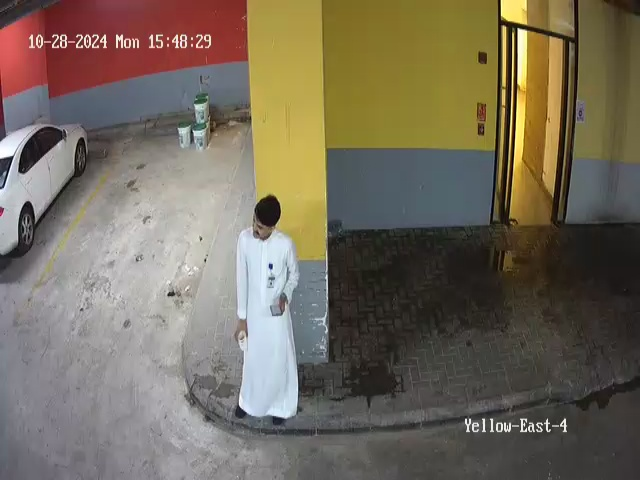male: (232, 195, 301, 428)
